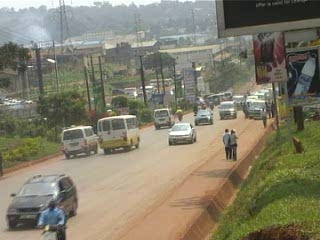Car: (5, 171, 80, 231), (165, 120, 200, 147), (194, 110, 215, 127)
Motorcycle: (37, 219, 69, 239), (176, 111, 184, 121), (209, 103, 214, 111)
